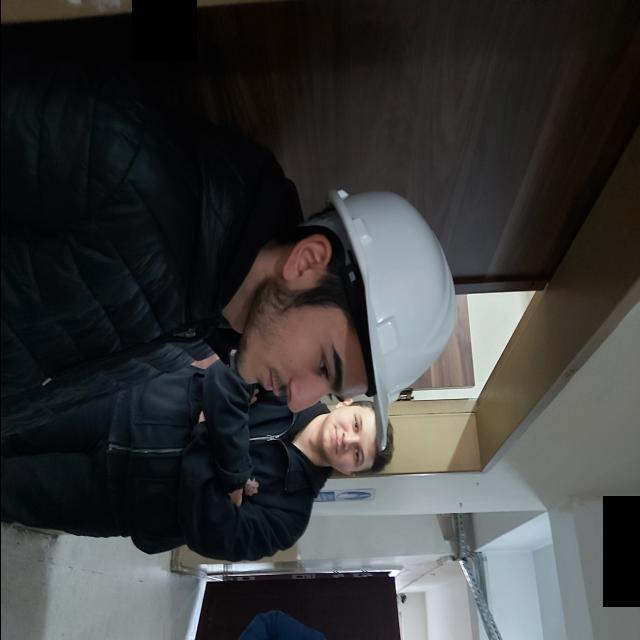helmet: (300, 187, 457, 453)
